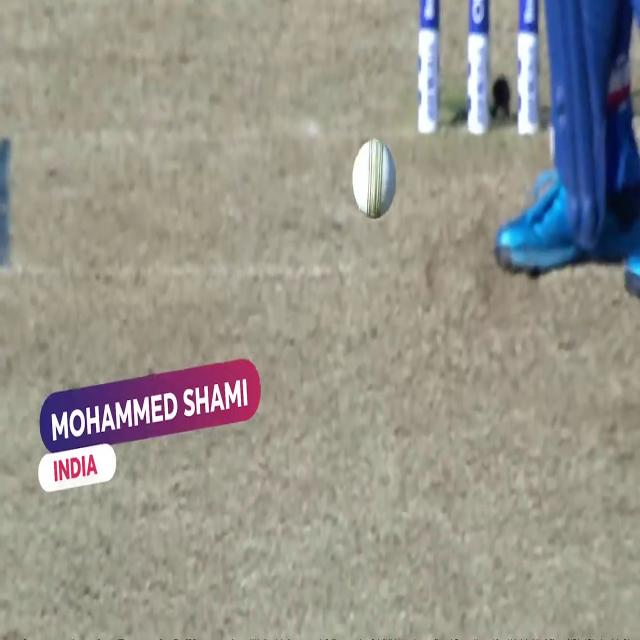ball: (346, 134, 399, 222)
